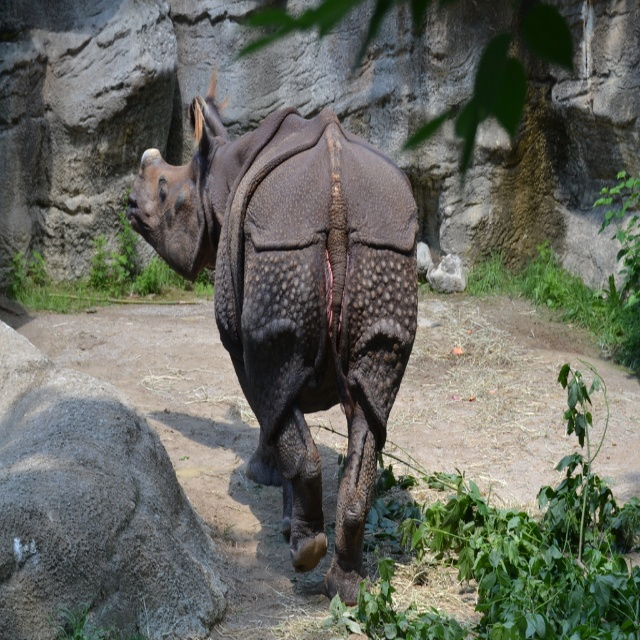Rhinoceros: (125, 89, 421, 609)
